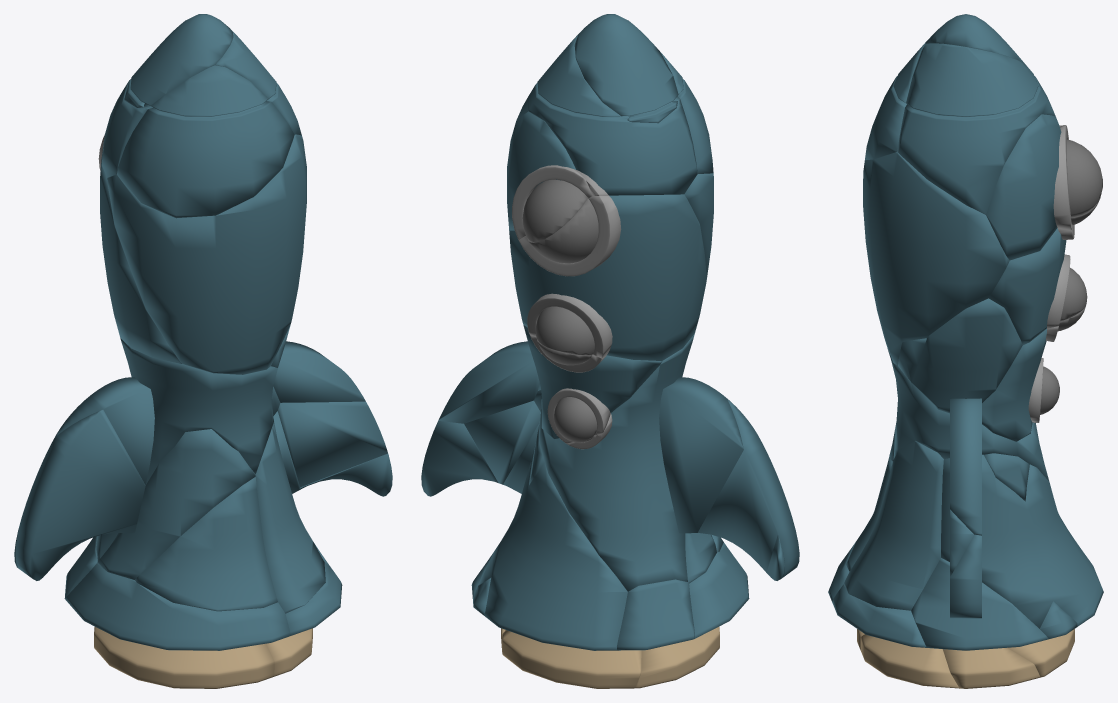
Rendered from Ship Dark Blue Fractured.fbx.
The picture shows the model from 3 angles, left to right: view 1: azimuth 30°, elevation 25°; view 2: azimuth 150°, elevation 25°; view 3: azimuth 270°, elevation 25°; orthographic projection.
Visible parts, largest first — view 1: Body_shard, Body_shard.006, Body_shard.010, Body_shard.013, Body_shard.014, Body_shard.005, Body_shard.015, Body_shard.008, Body_shard.009, Body_shard.001, Body_shard.007, Body_shard.003 (+3 smaller); view 2: Body_shard.014, Body_shard.009, Body_shard.004, Body_shard.001, Body_shard.006, Body_shard.016, Body_shard.008, Body_shard.012, Body_shard.013, Body_shard.017, Body_shard.007, Body_shard.002 (+3 smaller); view 3: Body_shard, Body_shard.001, Body_shard.004, Body_shard.007, Body_shard.005, Body_shard.011, Body_shard.012, Body_shard.009, Body_shard.003, Body_shard.016, Body_shard.014, Body_shard.010 (+5 smaller).
Boxes of the visible parts, left/top/right/bottom form: Body_shard: left=107, top=134, right=306, bottom=374; Body_shard.006: left=15, top=410, right=255, bottom=580; Body_shard.010: left=117, top=65, right=294, bottom=218; Body_shard.013: left=65, top=563, right=290, bottom=688; Body_shard.014: left=55, top=339, right=280, bottom=561; Body_shard.005: left=255, top=401, right=387, bottom=613; Body_shard.015: left=135, top=477, right=277, bottom=611; Body_shard.008: left=124, top=14, right=233, bottom=107; Body_shard.009: left=98, top=135, right=181, bottom=363; Body_shard.001: left=101, top=30, right=301, bottom=177; Body_shard.007: left=273, top=341, right=365, bottom=402; Body_shard.003: left=266, top=562, right=342, bottom=676; Body_shard.014: left=534, top=333, right=743, bottom=591; Body_shard.009: left=509, top=194, right=706, bottom=360; Body_shard.004: left=478, top=423, right=641, bottom=688; Body_shard.001: left=515, top=32, right=697, bottom=195; Body_shard.006: left=685, top=398, right=799, bottom=583; Body_shard.016: left=523, top=325, right=662, bottom=443; Body_shard.008: left=574, top=14, right=678, bottom=123; Body_shard.012: left=507, top=111, right=592, bottom=242; Body_shard.013: left=635, top=542, right=749, bottom=688; Body_shard.017: left=617, top=535, right=784, bottom=650; Body_shard.007: left=438, top=341, right=539, bottom=423; Body_shard.002: left=464, top=400, right=544, bottom=614; Body_shard: left=863, top=151, right=1009, bottom=365; Body_shard.001: left=897, top=43, right=1067, bottom=214; Body_shard.004: left=941, top=454, right=1103, bottom=677; Body_shard.007: left=911, top=298, right=1022, bottom=535; Body_shard.005: left=843, top=441, right=973, bottom=610; Body_shard.011: left=911, top=534, right=1048, bottom=688; Body_shard.012: left=986, top=114, right=1102, bottom=260; Body_shard.009: left=989, top=133, right=1100, bottom=344; Body_shard.003: left=832, top=584, right=959, bottom=688; Body_shard.016: left=982, top=307, right=1085, bottom=441; Body_shard.014: left=887, top=348, right=1049, bottom=481; Body_shard.010: left=865, top=43, right=925, bottom=160.
Bounding box in the file's own units: 264 × 438 × 174.
